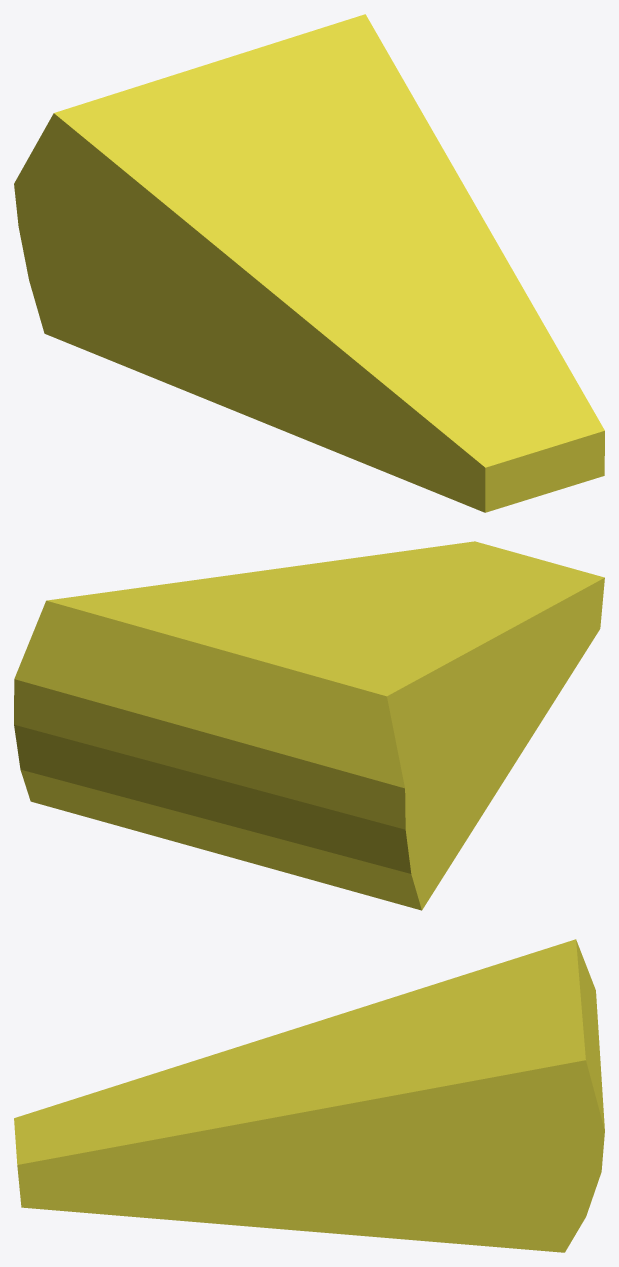
The model's file is cheese.fbx.
The picture shows the model from 3 angles, top to bottom: view 1: azimuth 30°, elevation 25°; view 2: azimuth 150°, elevation 25°; view 3: azimuth 270°, elevation 25°; orthographic projection. The views are drawn at different scales.
Parts seen in each view (by area): view 1: Cube; view 2: Cube; view 3: Cube.
Boxes of the visible parts, left/top/right/bottom form: Cube: left=14, top=14, right=604, bottom=512; Cube: left=14, top=541, right=604, bottom=910; Cube: left=14, top=939, right=604, bottom=1252.
Bounding box in the file's own units: 498 × 286 × 777.
